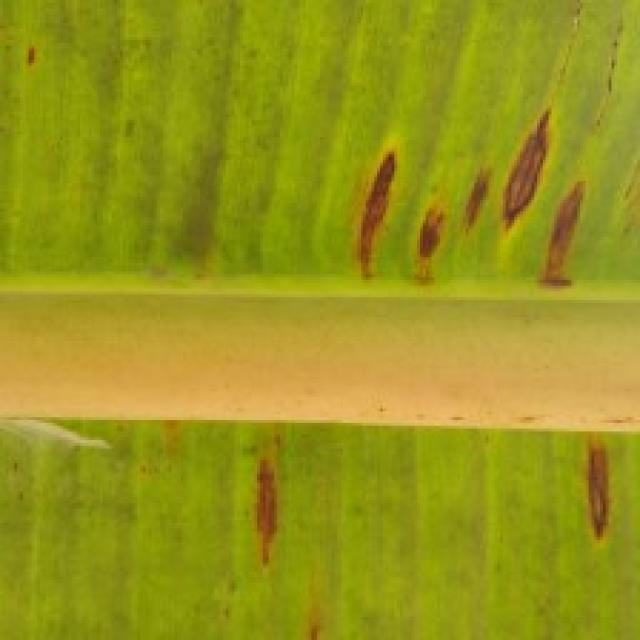Early_leaf_spot: (293, 118, 396, 271), (551, 419, 640, 564), (526, 122, 596, 305), (487, 90, 552, 246), (158, 148, 234, 279), (245, 411, 300, 569), (394, 158, 455, 286), (452, 148, 498, 254), (294, 577, 339, 640), (614, 164, 640, 250), (595, 28, 630, 90), (12, 36, 48, 74)
